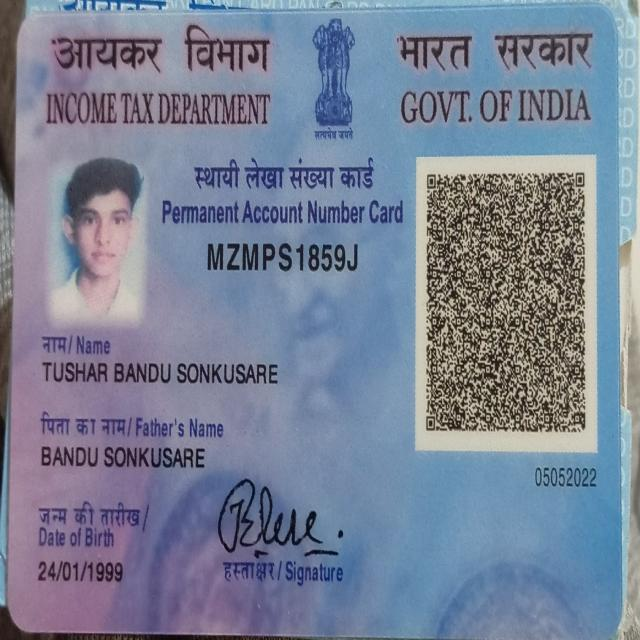pan_card: (14, 14, 621, 634)
